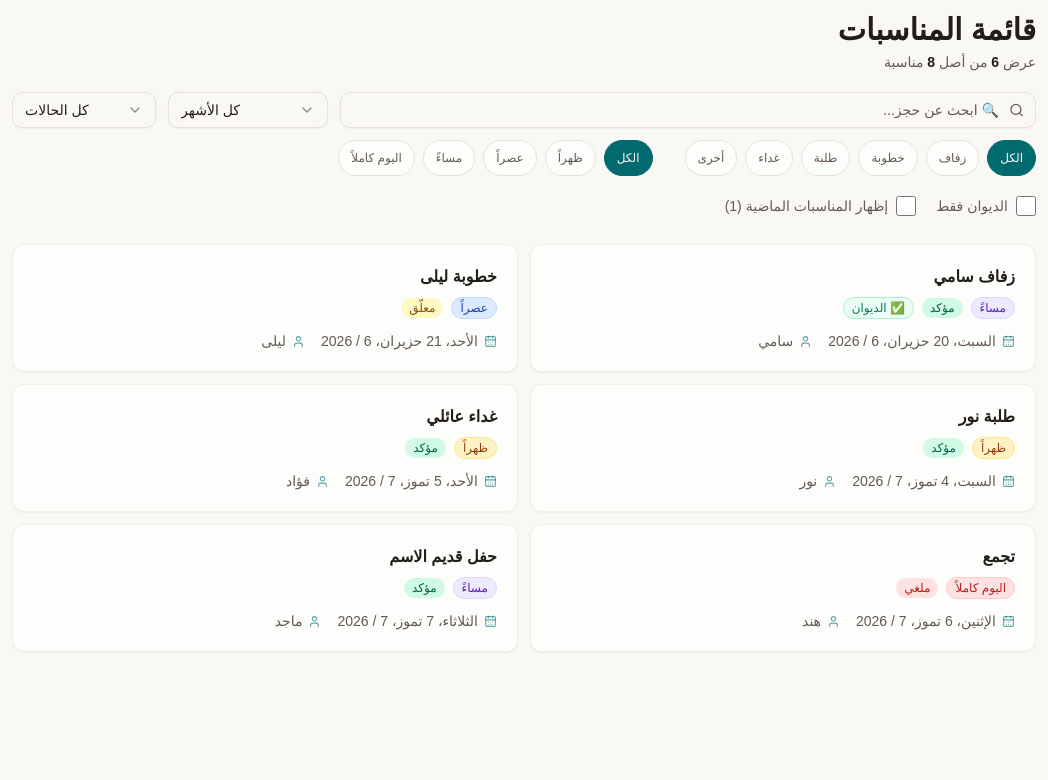
Test: EventsPage › shows an empty state and clears every filter at once
This screenshot has width=1048, height=780.
Type "لا شيء مطابق" into the field with placeholder "🔍 ابحث عن حجز...".
click(688, 110); type("لا شيء مطابق")  # box x1=340 y1=92 x2=1036 y2=128
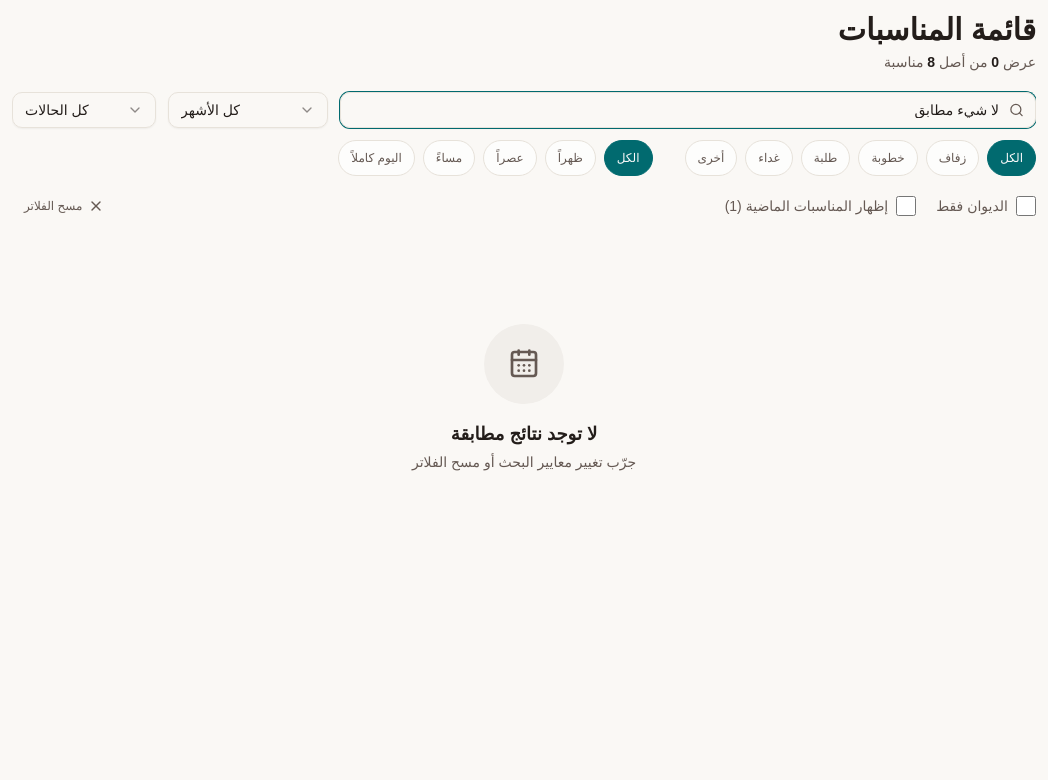
Expected: the text "لا توجد نتائج مطابقة" is shown, x1=451 y1=424 x2=597 y2=444
Click the button "مسح الفلاتر".
click(64, 206)  # box x1=12 y1=190 x2=116 y2=222
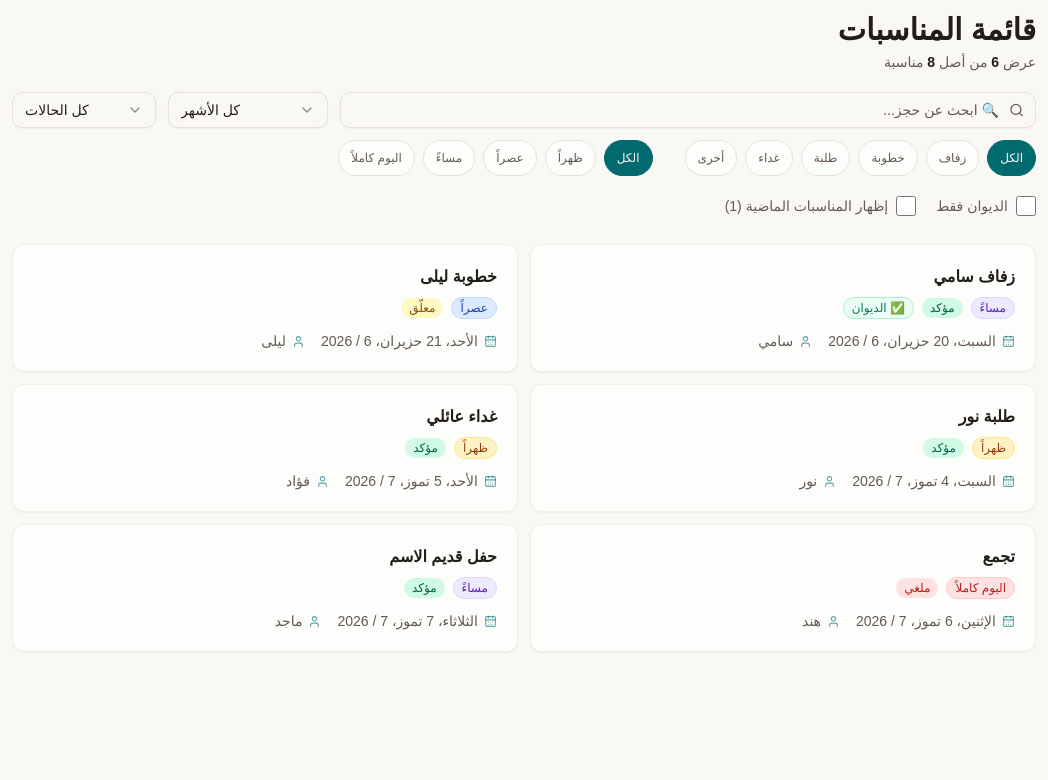
Expected: the button "مسح الفلاتر" is gone
